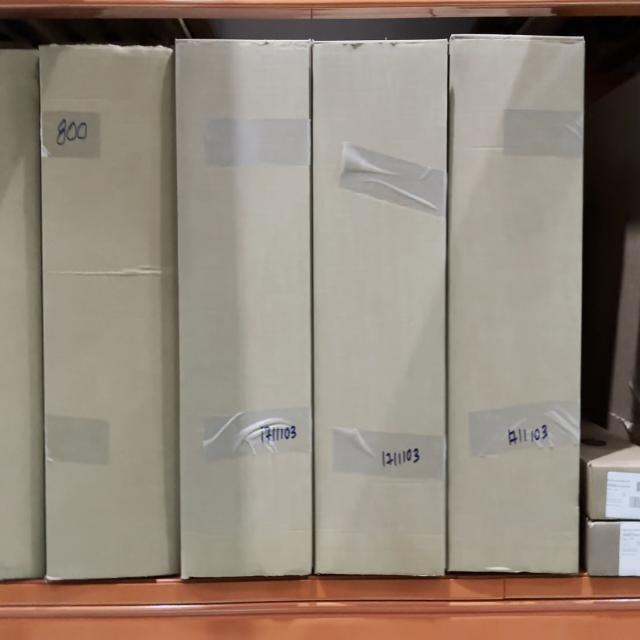box: (315, 42, 445, 570), (182, 44, 311, 574), (450, 39, 578, 570), (46, 48, 175, 572)
